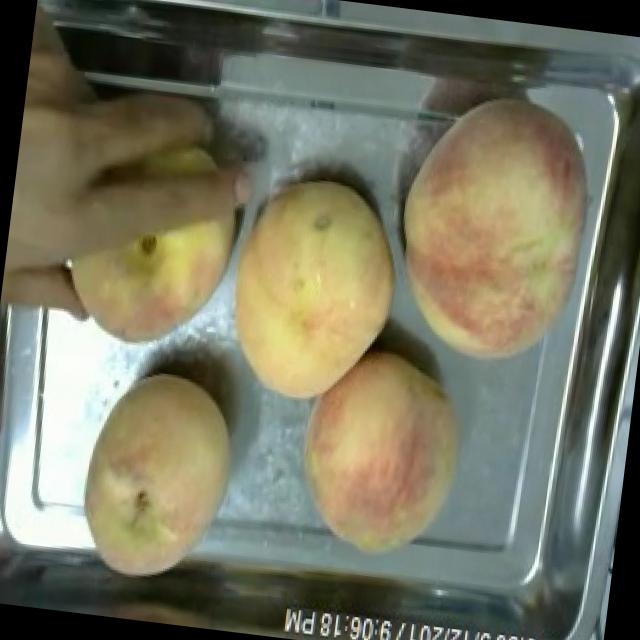Fruit: (0, 64, 273, 365), (374, 76, 625, 383), (212, 160, 416, 418), (279, 333, 481, 574), (60, 354, 255, 601)
